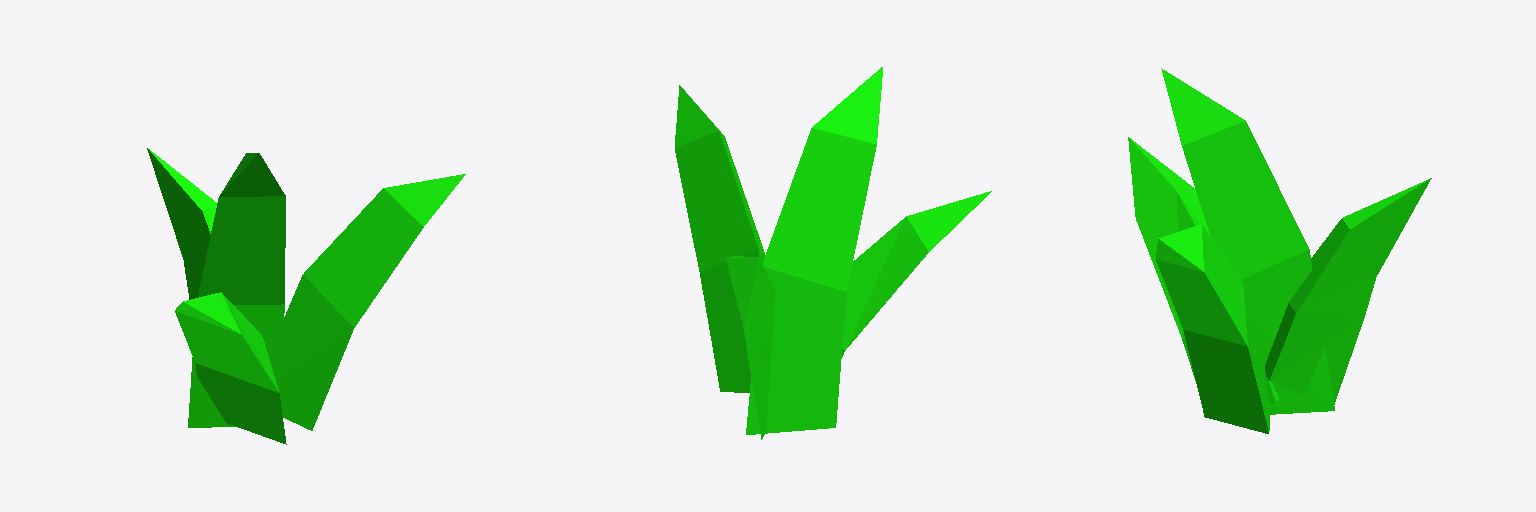
Rendered from grass1.obj.
3 renders of one model, left to right at view 1: azimuth 30°, elevation 25°; view 2: azimuth 150°, elevation 25°; view 3: azimuth 270°, elevation 25°, orthographic.
Visible parts, largest first — view 1: GrassBunch5; view 2: GrassBunch5; view 3: GrassBunch5.
Part boxes in pixels (x1,y1,x2,y2): GrassBunch5: (147,148,465,444); GrassBunch5: (675,67,991,439); GrassBunch5: (1128,68,1431,433).
Size of the model in its own units: 0.5767 by 0.5921 by 0.5076.